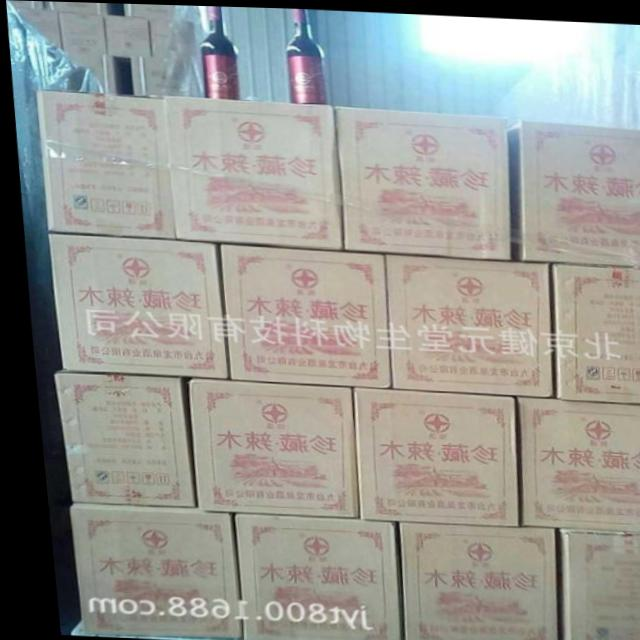box: (44, 230, 221, 377), (162, 94, 333, 244), (331, 105, 500, 254), (213, 239, 380, 385), (376, 249, 545, 391), (180, 378, 352, 514), (60, 504, 230, 636), (345, 385, 508, 521), (222, 511, 391, 640), (503, 118, 640, 263), (386, 519, 550, 640), (34, 90, 168, 235), (505, 393, 640, 528), (48, 371, 183, 503), (545, 255, 640, 399), (544, 527, 640, 640), (55, 53, 118, 92), (57, 11, 103, 57), (102, 14, 150, 56), (15, 10, 57, 53), (127, 54, 158, 96), (148, 17, 175, 52), (124, 4, 176, 18), (45, 1, 105, 12), (9, 0, 42, 10)
